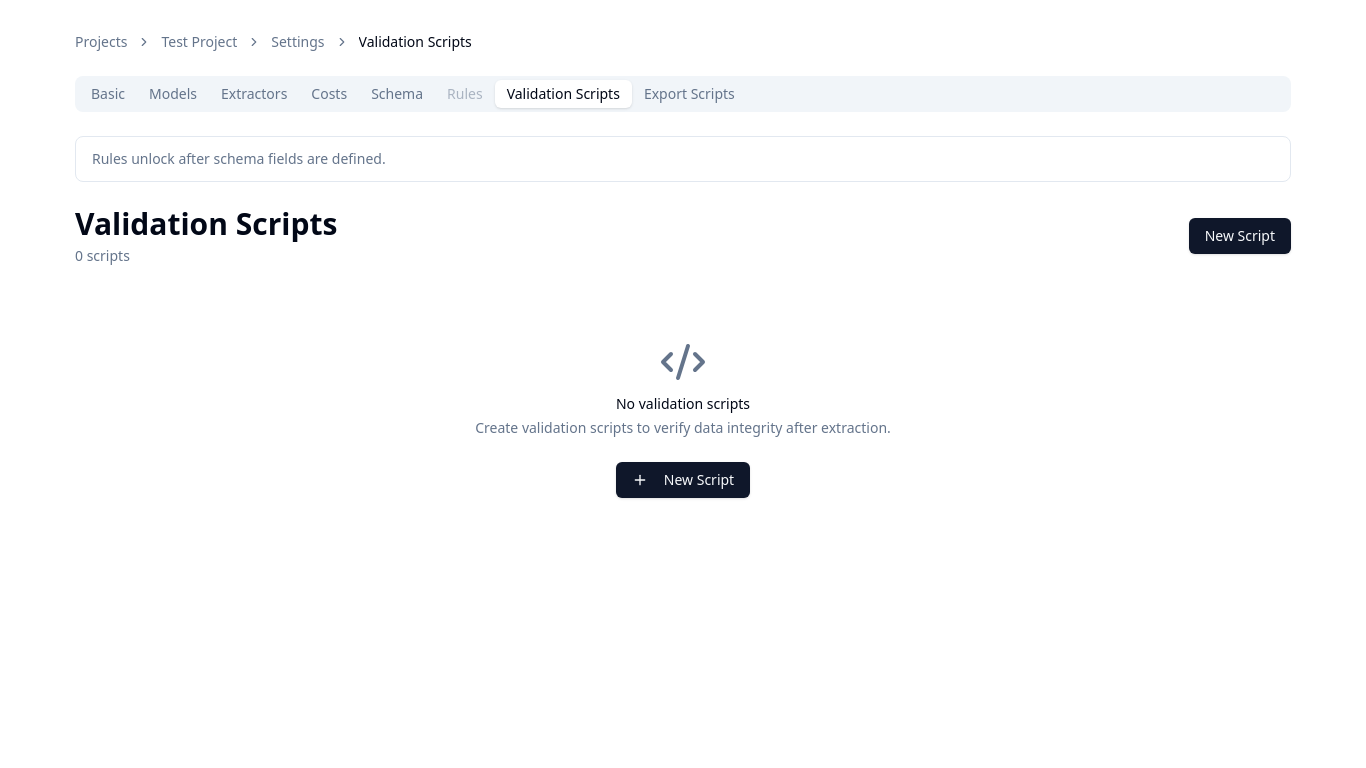
Test: ProjectSettingsValidationScriptsPage › opens create dialog from empty state
expect the heading "Validation Scripts" is shown: met, box [75,206,337,242]
Click the button "New Script" in the row of "0 scripts". click: [1240, 236]
box: [1189,218,1291,254]
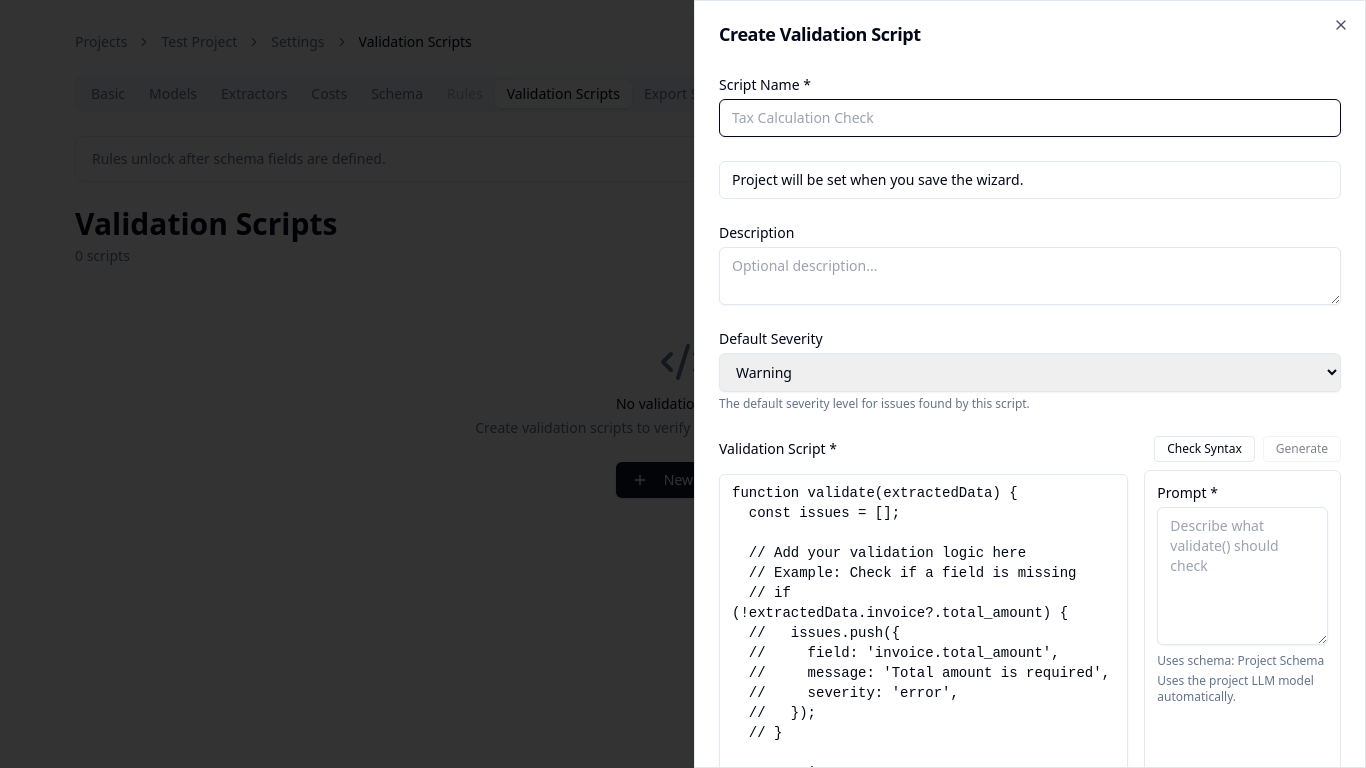
expect the heading "Create Validation Script" is shown: met, box [719,22,921,46]
